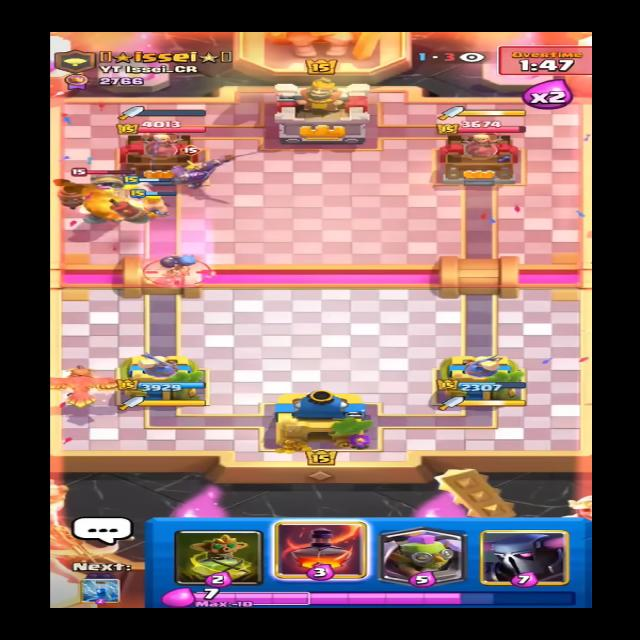evo-knight: (166, 140, 222, 193)
goblin-machine: (66, 168, 149, 224)
